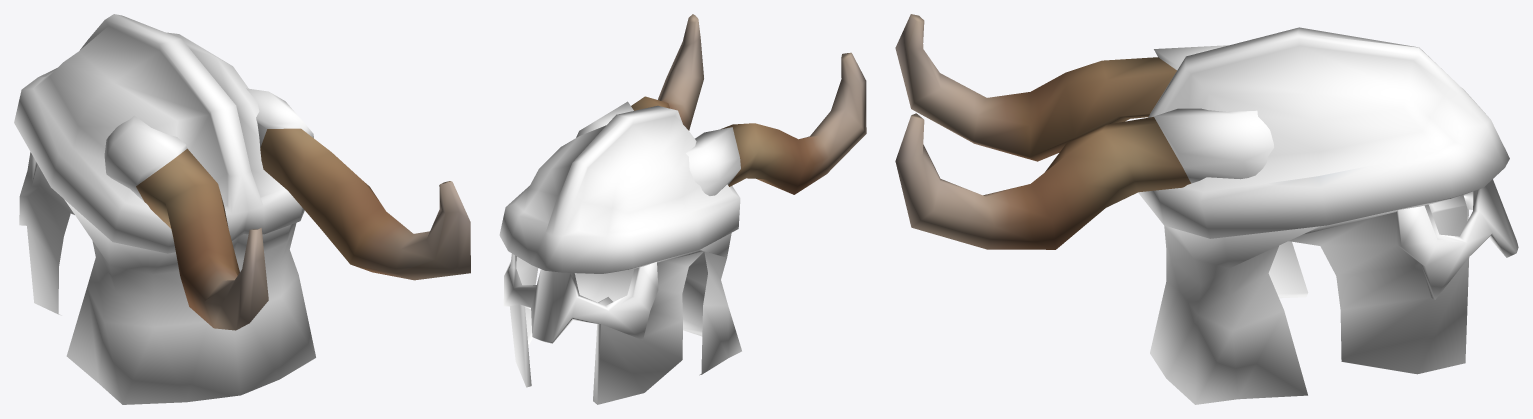
The model's file is HelmetDrake.fbx.
The picture shows the model from 3 angles, left to right: view 1: azimuth 30°, elevation 25°; view 2: azimuth 150°, elevation 25°; view 3: azimuth 270°, elevation 25°; orthographic projection. The views are drawn at different scales.
Visible parts, largest first — view 1: attach; view 2: attach; view 3: attach.
Part boxes in pixels (x1,y1,x2,y2): attach: (14, 14, 470, 404); attach: (499, 14, 866, 404); attach: (895, 14, 1518, 404).
Bounding box in the file's own units: 23.29 × 27.82 × 48.82.
Materials: 1 (1 with a texture image).
